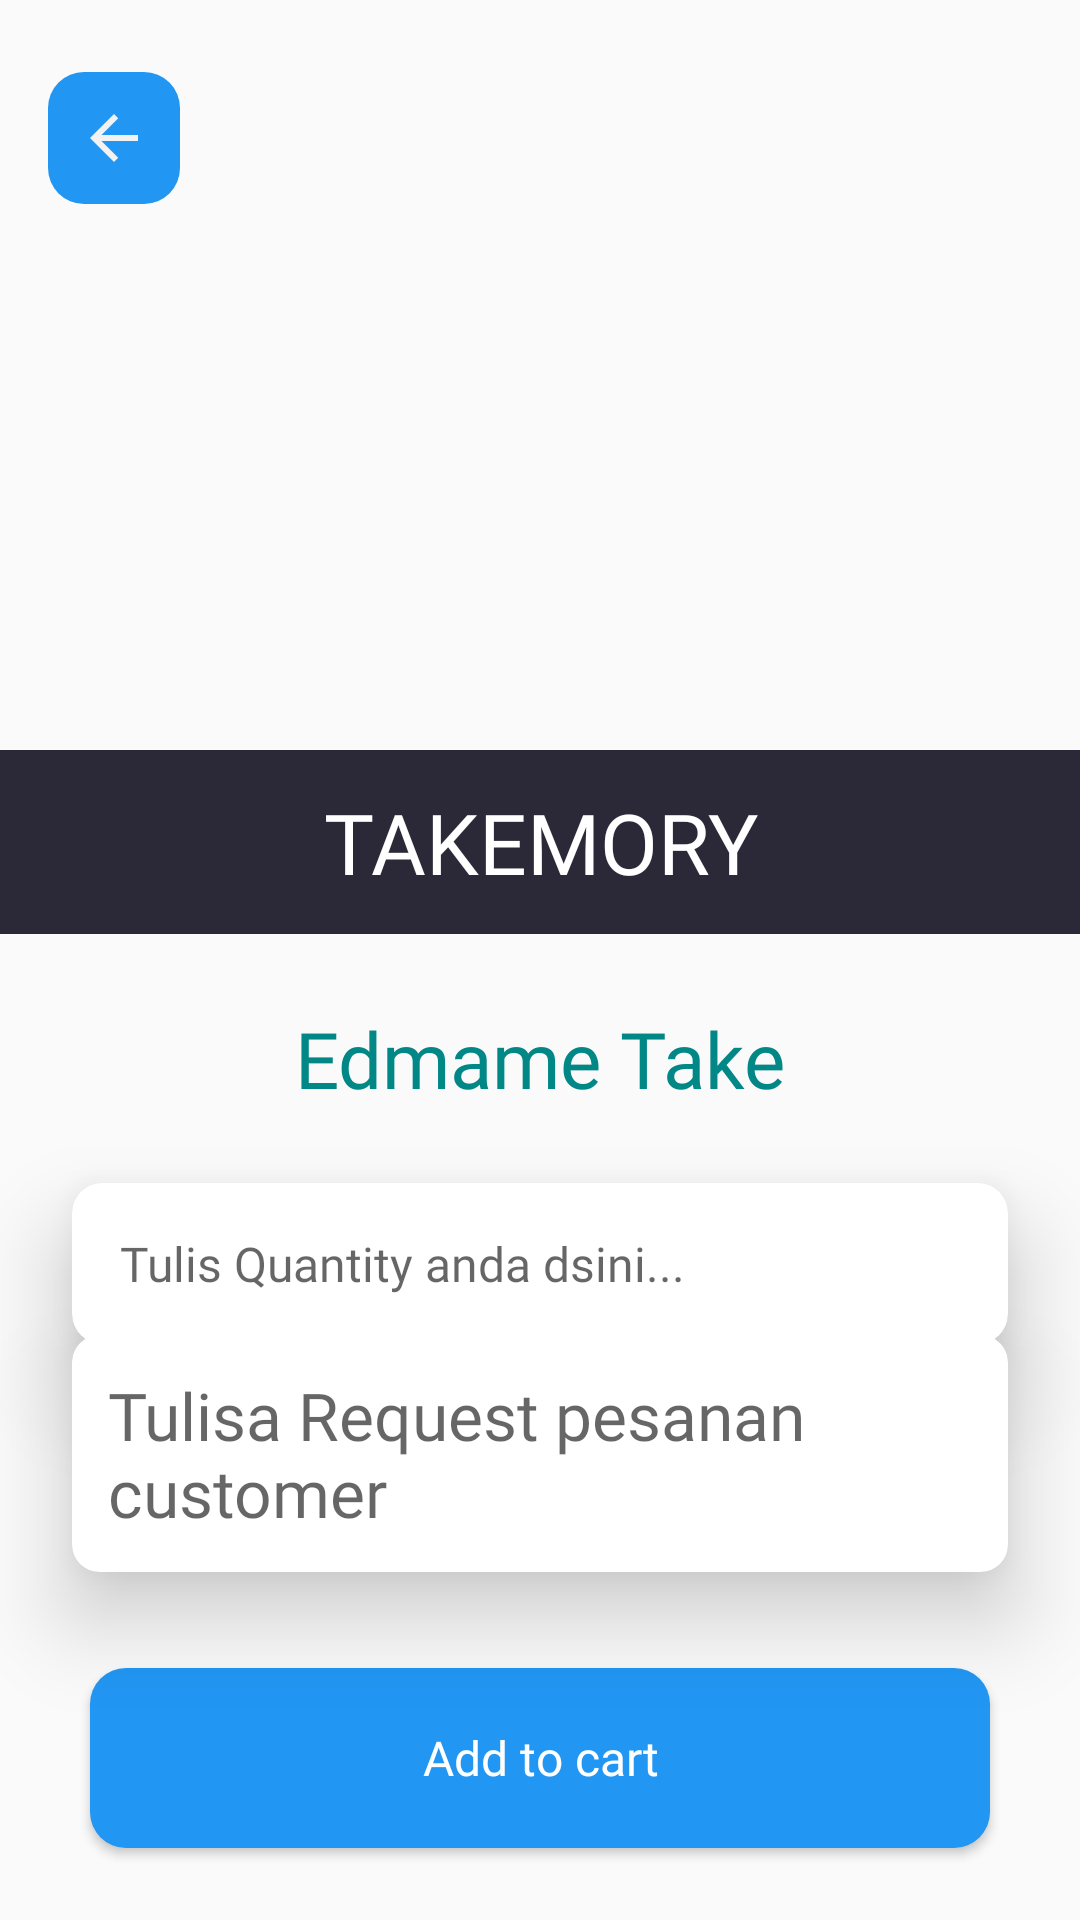

Point at icon controls on the screen. Image size 1080×1920, points as [x,y].
arrow back: [114,138]
